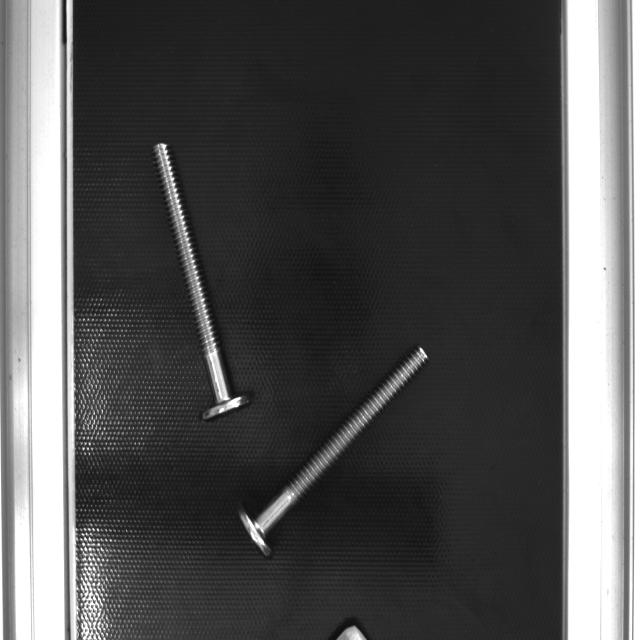bulon: (254, 344, 431, 535), (151, 140, 232, 405)
